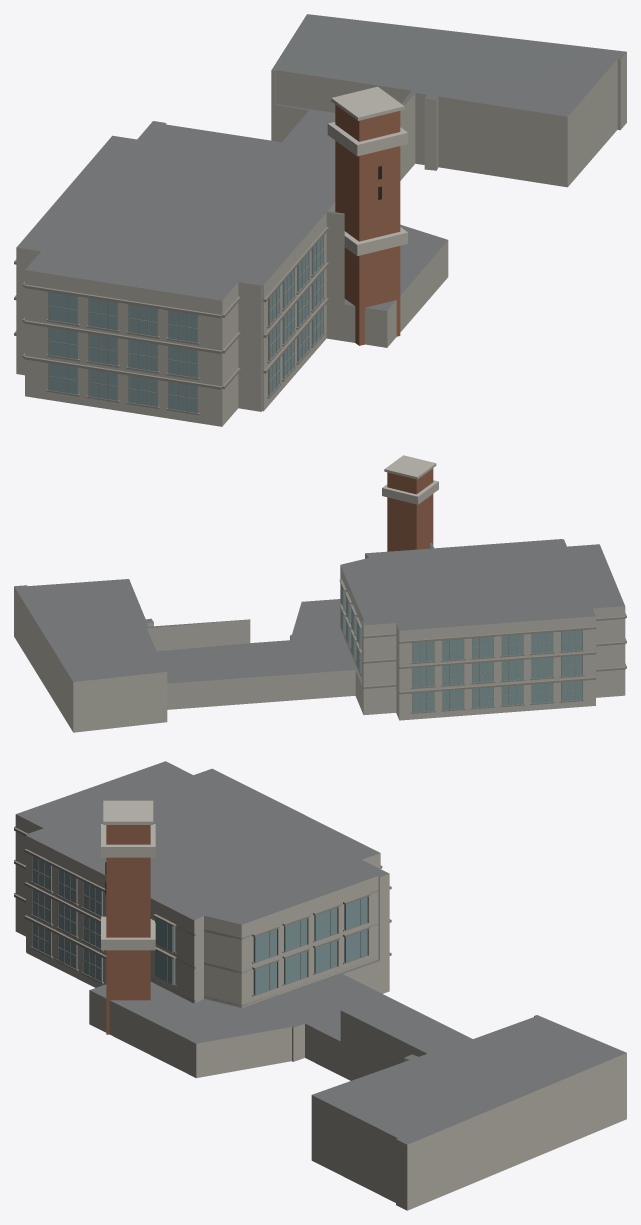
The model's file is koningskerk.glb.
The picture shows the model from 3 angles, top to bottom: view 1: azimuth 30°, elevation 25°; view 2: azimuth 150°, elevation 25°; view 3: azimuth 270°, elevation 25°; orthographic projection. The views are drawn at different scales.
Visible parts, largest first — view 1: koningskerk; view 2: koningskerk; view 3: koningskerk.
Part boxes in pixels (left/top/right/bottom): koningskerk: left=14, top=14, right=626, bottom=426; koningskerk: left=14, top=455, right=626, bottom=732; koningskerk: left=14, top=761, right=626, bottom=1210.
Bounding box in the file's own units: 67.72 × 20.3 × 52.7.
